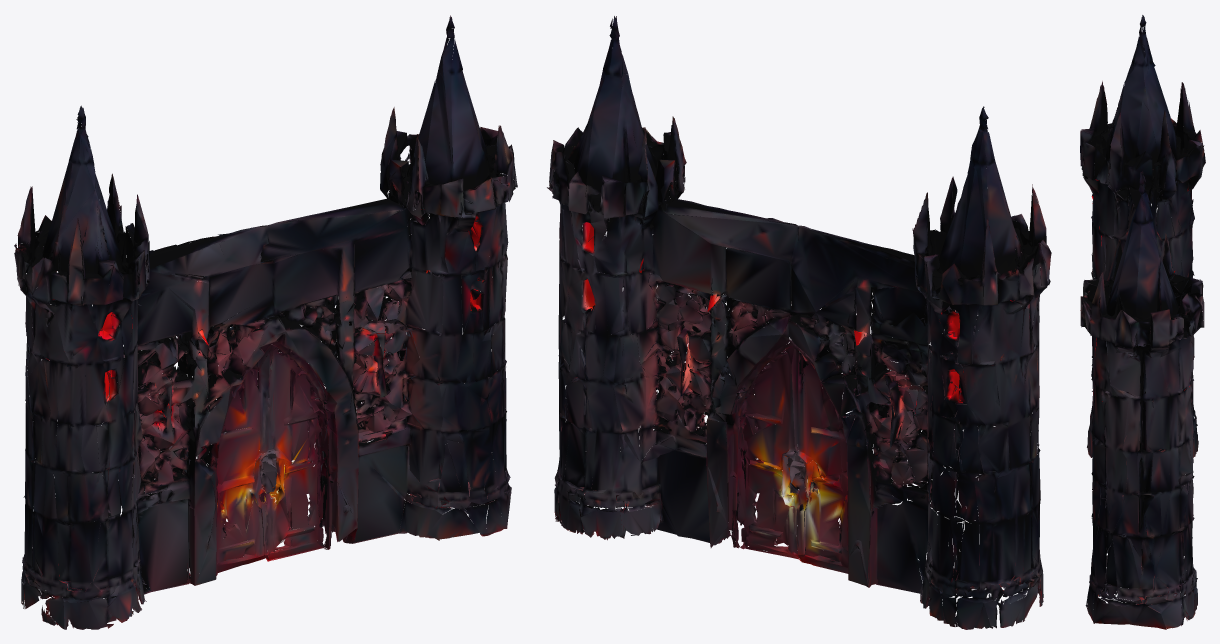
The model's file is citadel_gate.glb.
The picture shows the model from 3 angles, left to right: view 1: azimuth 30°, elevation 25°; view 2: azimuth 150°, elevation 25°; view 3: azimuth 270°, elevation 25°; orthographic projection. The views are drawn at different scales.
Parts seen in each view (by area): view 1: citadel_gate_body; view 2: citadel_gate_body; view 3: citadel_gate_body.
Boxes of the visible parts, bbox=[...] form: citadel_gate_body: bbox=[14, 15, 517, 629]; citadel_gate_body: bbox=[547, 16, 1051, 629]; citadel_gate_body: bbox=[1080, 15, 1205, 629].
Size of the model in its own units: 64.07 by 63.58 by 16.44.
Materials: 1 (1 with a texture image).
